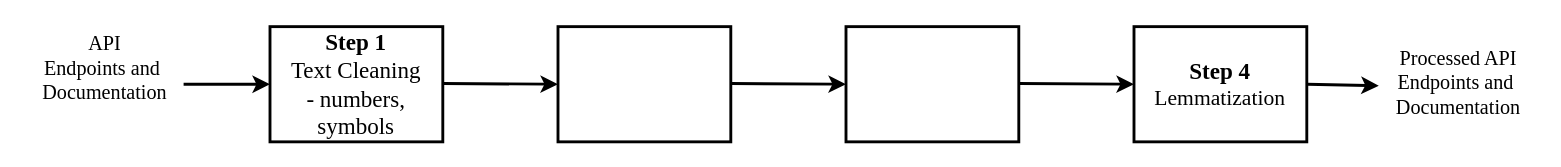
Image size: 1561x167. Some labels were removed from this diagram. Here are the shapes that lost their labels. From the top down, the box of each, then its label:
(556, 24, 732, 143): Step 2 Tokenization
(844, 24, 1020, 143): Step 3 Removing Stop Words
